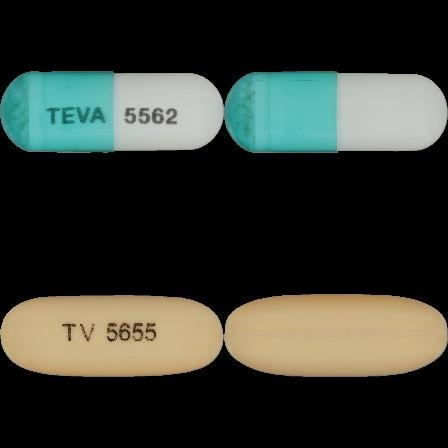0093-5562: (0, 0, 224, 224)
